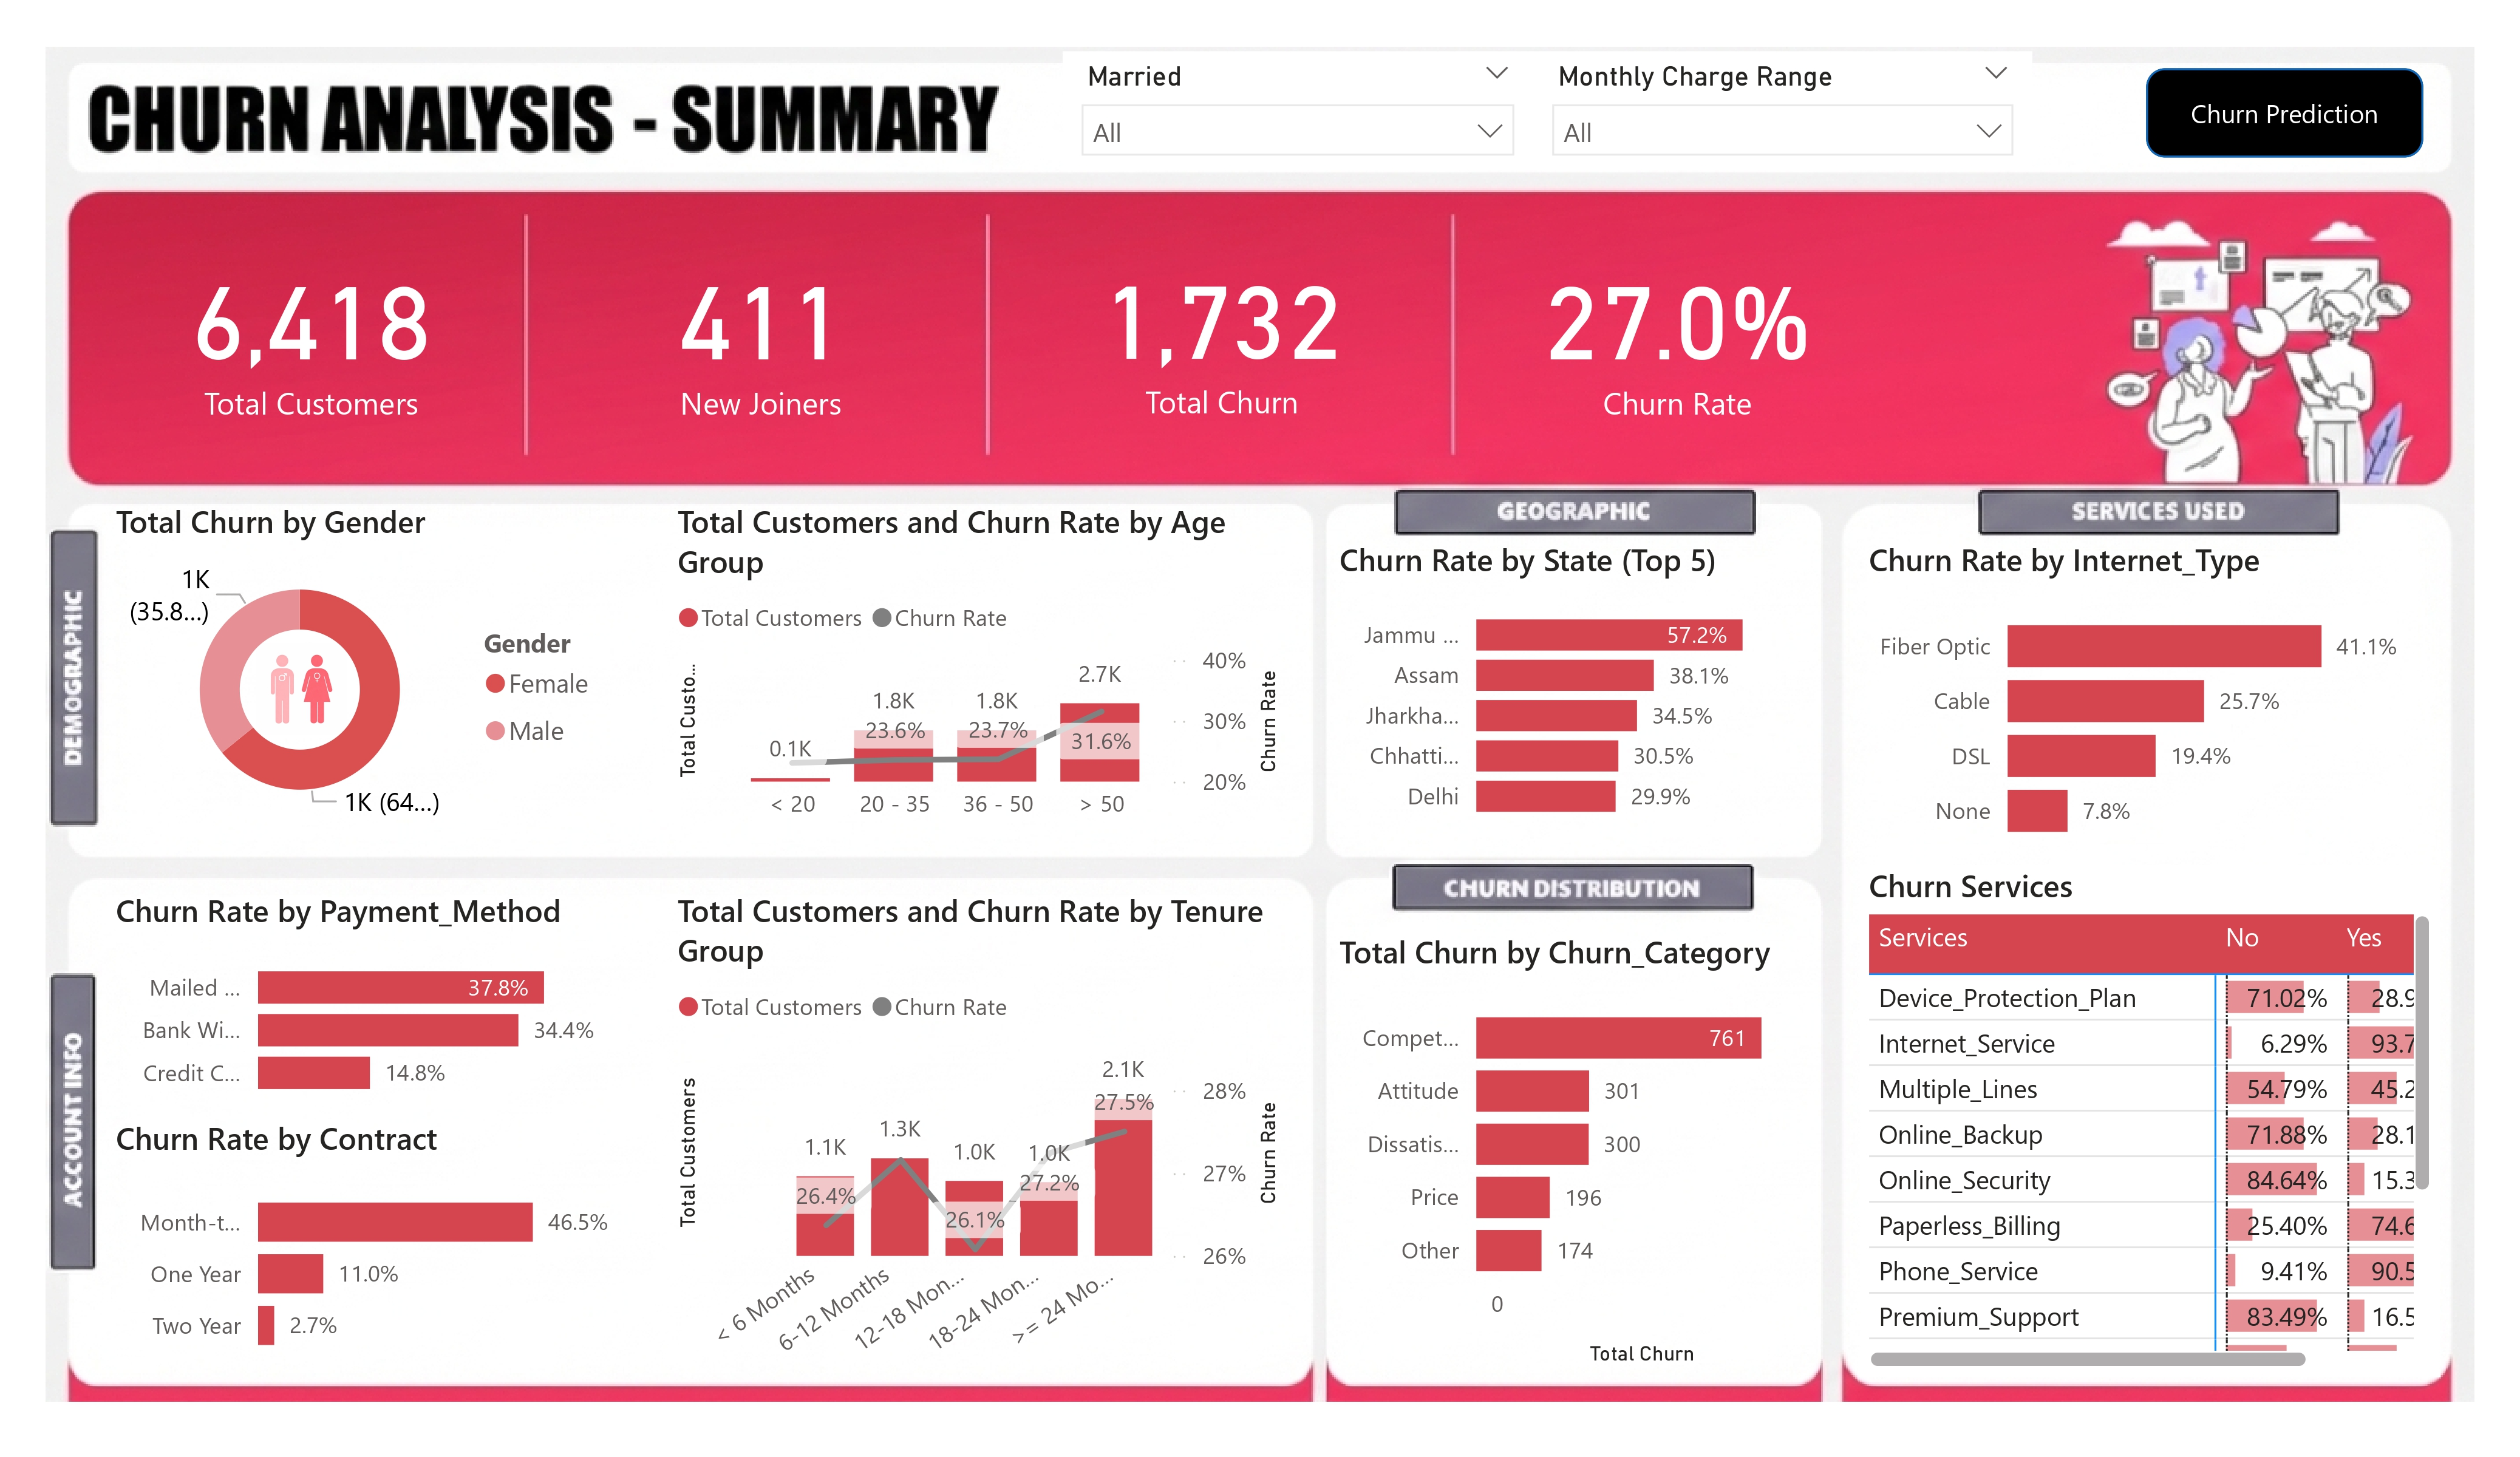

This screenshot's page, from the dashboard's own definition file:
{"tool":"powerbi","page":{"name":"Summary","canvas":[1280,720],"ordinal":0},"visuals":[{"type":"image","box":[76.7,310,115,58.3],"z":0},{"type":"card","fields":{"Values":["Measure Table.Total Customers"]},"box":[32,88,216,124],"z":1000},{"type":"card","fields":{"Values":["Measure Table.New Joiners"]},"box":[262,84,230,132],"z":2000},{"type":"card","fields":{"Values":["Measure Table.Total Churn"]},"box":[506.7,86.7,226.7,125],"z":3000},{"type":"card","fields":{"Values":["Measure Table.Churn Rate"]},"box":[750,88.3,220,123.3],"z":4000},{"type":"donutChart","fields":{"Category":["prod_churn.Gender"],"Y":["Measure Table.Total Churn"]},"box":[31.7,240,270,178.3],"z":5000},{"type":"lineStackedColumnComboChart","fields":{"Category":["mapping_AgeGrp.Age Group"],"Y":["Measure Table.Total Customers"],"Y2":["Measure Table.Churn Rate"]},"box":[328.3,240,326.7,178.3],"z":6000},{"type":"clusteredBarChart","fields":{"Category":["prod_churn.Payment_Method"],"Y":["Measure Table.Churn Rate"]},"box":[31.7,445,270,120],"z":7000},{"type":"clusteredBarChart","fields":{"Y":["Measure Table.Churn Rate"],"Category":["prod_churn.Contract"]},"box":[31.7,565,270,136.7],"z":8000},{"type":"lineStackedColumnComboChart","fields":{"Y":["Measure Table.Total Customers"],"Y2":["Measure Table.Churn Rate"],"Category":["mapping_TenureGrp.Tenure Group"]},"box":[328.3,445,326.7,256.7],"z":9000},{"type":"clusteredBarChart","title":"Churn Rate by State (Top 5)","fields":{"Category":["prod_churn.State"],"Y":["Measure Table.Churn Rate"]},"box":[676.7,260,256.7,158.3],"z":10000},{"type":"clusteredBarChart","fields":{"Category":["prod_churn.Churn_Category"],"Y":["Measure Table.Total Churn"]},"box":[677,467,257,233.5],"z":11000},{"type":"clusteredBarChart","fields":{"Category":["prod_churn.Internet_Type"],"Y":["Measure Table.Churn Rate"]},"box":[955.8,260.4,294,171.3],"z":12000},{"type":"pivotTable","title":"Churn Services","fields":{"Rows":["prod_services.Services"],"Columns":["prod_services.Status"],"Values":["Sum(prod_services.Churn_Status)"]},"box":[955.8,431.7,305.7,270.4],"z":13000},{"type":"slicer","fields":{"Values":["prod_churn.Monthly Charge Range"]},"box":[784.5,3.4,262,62.2],"z":14000},{"type":"slicer","fields":{"Values":["prod_churn.Married"]},"box":[535.9,3.4,248.6,62.2],"z":15000},{"type":"shape","box":[1107,11.8,146.1,47],"z":16000}]}

Visuals, with their boxes on the page's 1280x720 design canvas (x1, y1, x2, y2). These are canvas units, not pixel positions in the 2520x1457 screenshot, which may show the page scaled, cropped or inside an application window:
image: [77,310,192,368]
card - Measure Table.Total Customers: [32,88,248,212]
card - Measure Table.New Joiners: [262,84,492,216]
card - Measure Table.Total Churn: [507,87,733,212]
card - Measure Table.Churn Rate: [750,88,970,212]
donutChart - prod_churn.Gender x Measure Table.Total Churn: [32,240,302,418]
lineStackedColumnComboChart - mapping_AgeGrp.Age Group x Measure Table.Total Customers: [328,240,655,418]
clusteredBarChart - prod_churn.Payment_Method x Measure Table.Churn Rate: [32,445,302,565]
clusteredBarChart - Measure Table.Churn Rate x prod_churn.Contract: [32,565,302,702]
lineStackedColumnComboChart - Measure Table.Total Customers x Measure Table.Churn Rate: [328,445,655,702]
"Churn Rate by State (Top 5)" clusteredBarChart: [677,260,933,418]
clusteredBarChart - prod_churn.Churn_Category x Measure Table.Total Churn: [677,467,934,700]
clusteredBarChart - prod_churn.Internet_Type x Measure Table.Churn Rate: [956,260,1250,432]
"Churn Services" pivotTable: [956,432,1262,702]
slicer - prod_churn.Monthly Charge Range: [784,3,1046,66]
slicer - prod_churn.Married: [536,3,784,66]
shape: [1107,12,1253,59]
